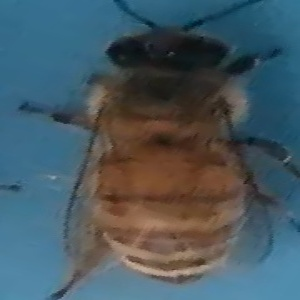bee: (38, 2, 300, 285)
